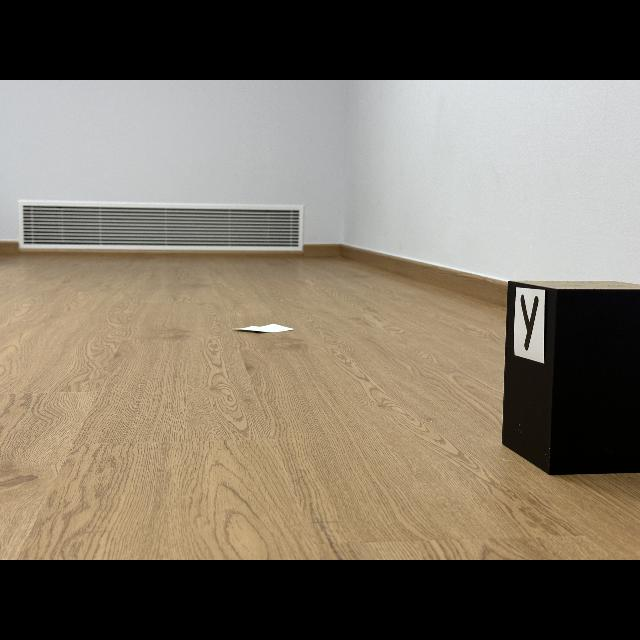Y: (520, 295, 539, 350)
